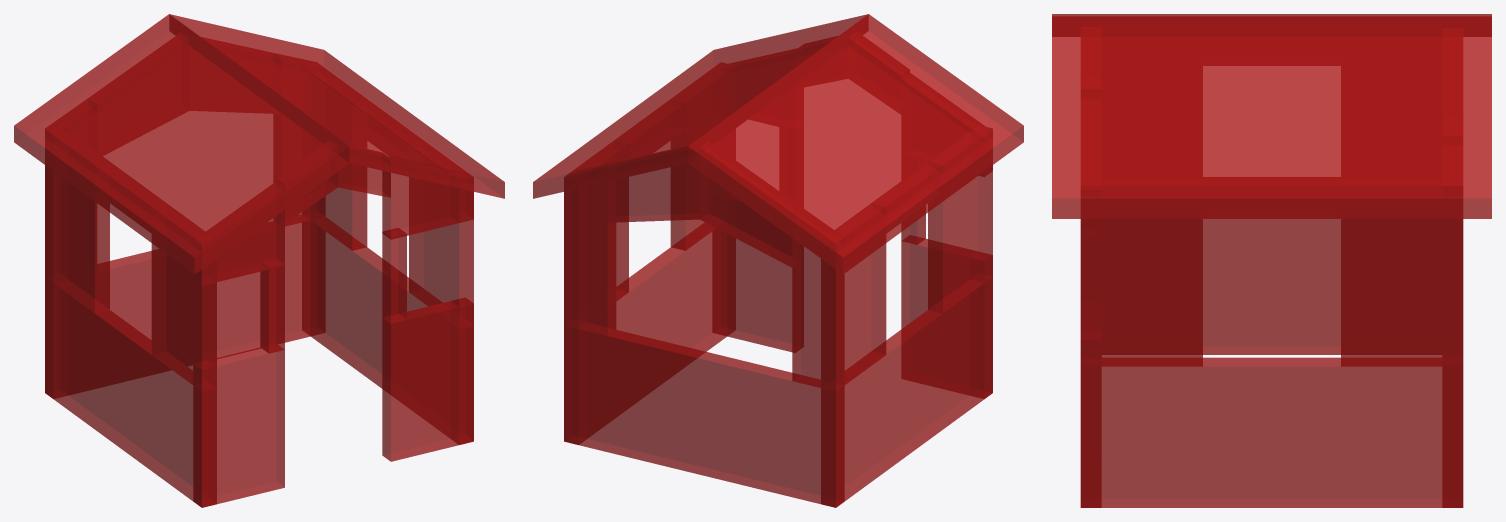
The model's file is SM_Prop_Play_House_01_Collision.fbx.
3 views of the same model, side by side, from view 1: azimuth 30°, elevation 25°; view 2: azimuth 150°, elevation 25°; view 3: azimuth 270°, elevation 25° (orthographic). The views are drawn at different scales.
Visible parts, largest first — view 1: SM_Prop_Play_House_01_Collision; view 2: SM_Prop_Play_House_01_Collision; view 3: SM_Prop_Play_House_01_Collision.
Part boxes in pixels (box(x1,y1,x2,y2)): SM_Prop_Play_House_01_Collision: box(14, 14, 504, 507); SM_Prop_Play_House_01_Collision: box(533, 14, 1023, 507); SM_Prop_Play_House_01_Collision: box(1052, 14, 1491, 507).
Bounding box in the file's own units: 135 × 140 × 136.
